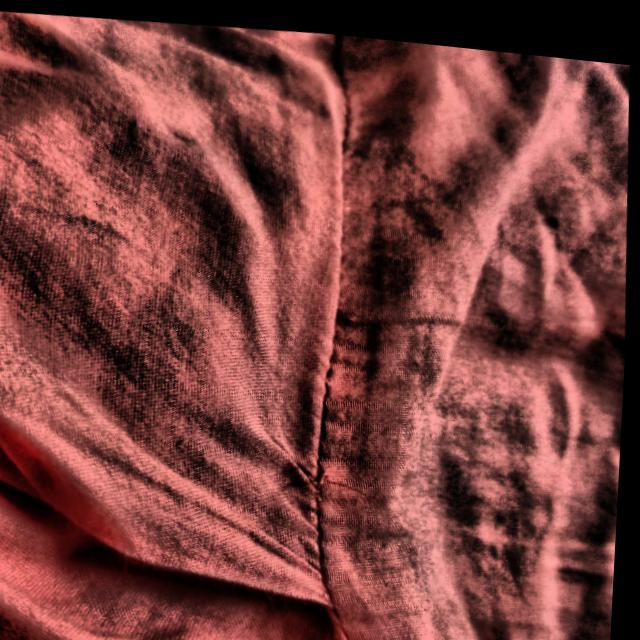Stitch: (276, 442, 393, 514)
